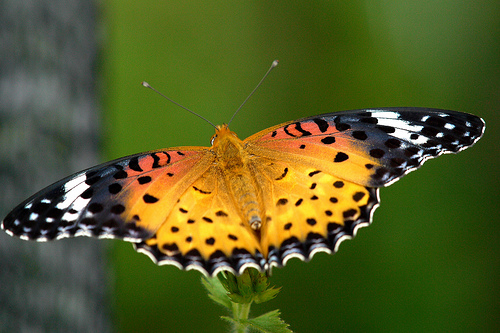Argyreus hyperbius: (5, 56, 486, 279)
butterfly: (7, 58, 488, 281)
